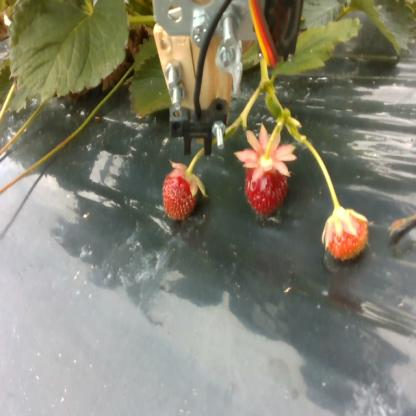ripe: (244, 152, 294, 222), (327, 209, 366, 262), (159, 170, 198, 220)
